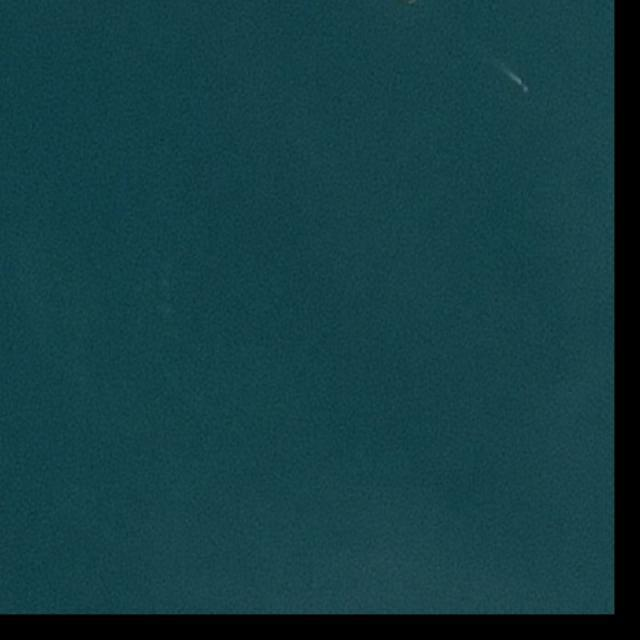ship: (521, 83, 530, 93)
